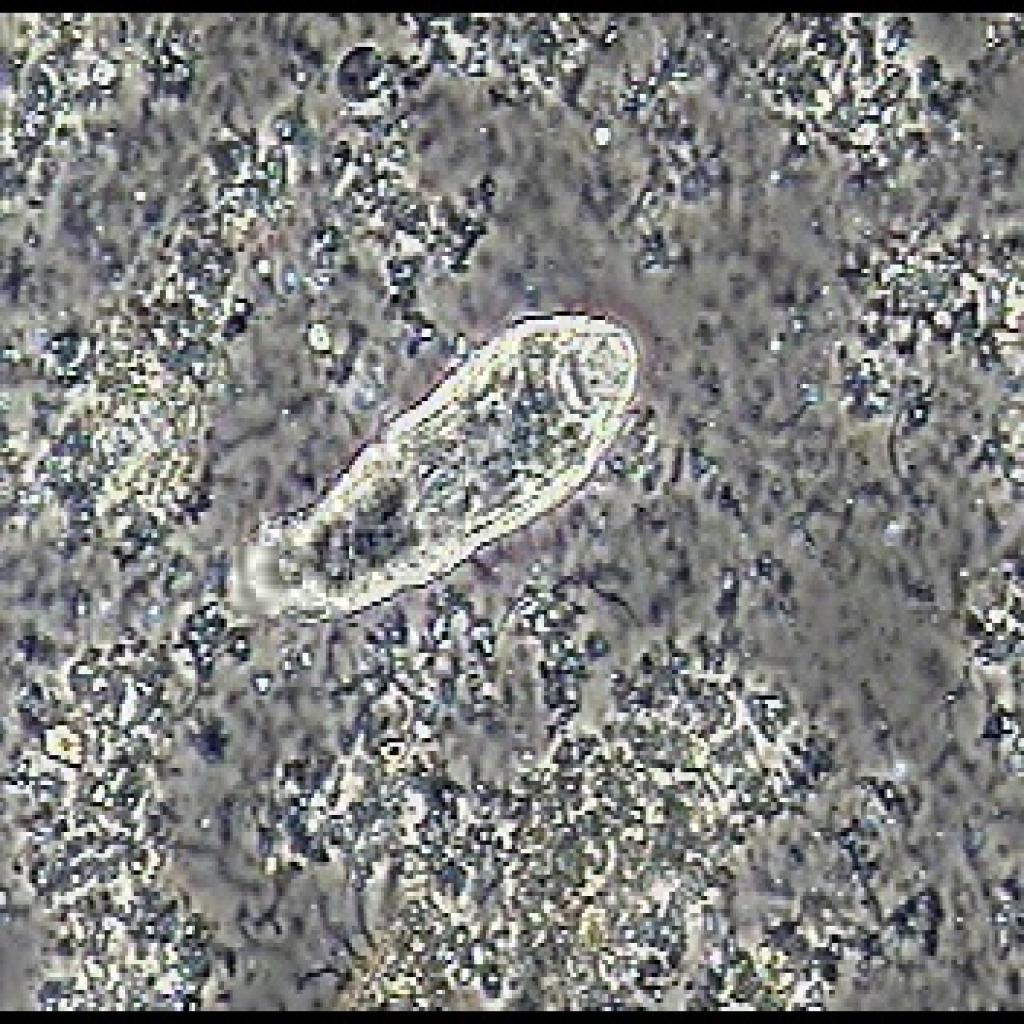Rotatoria: (204, 320, 643, 631)
